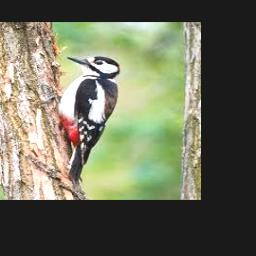Woodpecker: (58, 57, 120, 183)
